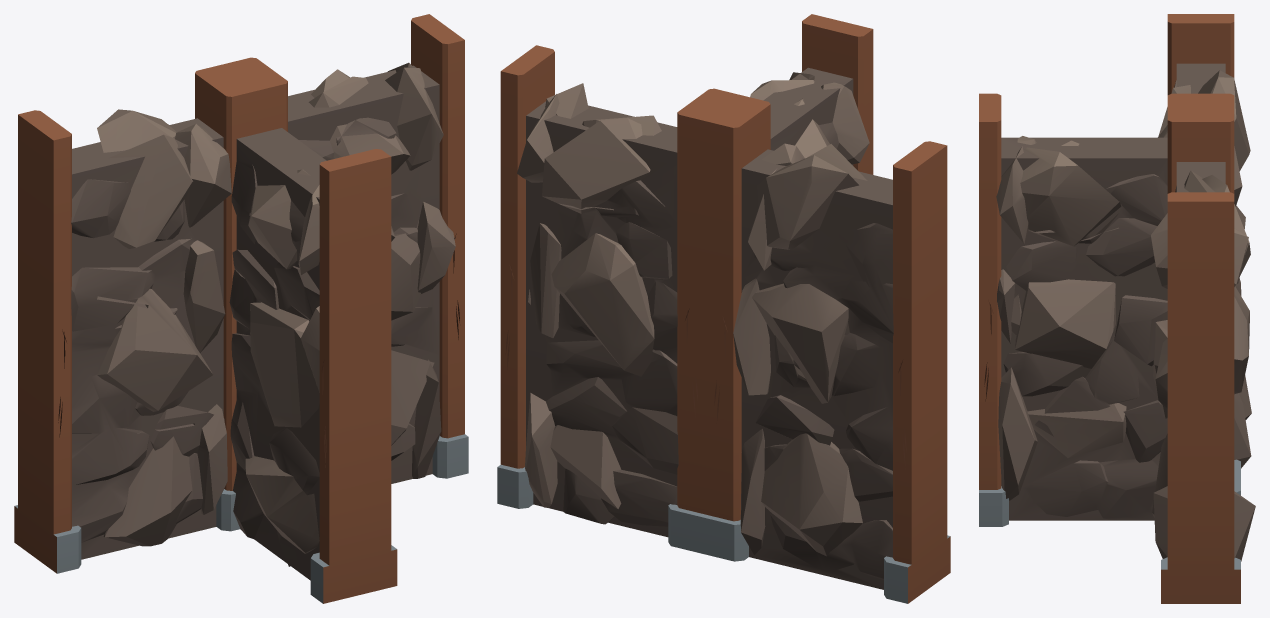
Rendered from wall_cave_Tsplit_A.glb.
3 views of the same model, side by side, from view 1: azimuth 30°, elevation 25°; view 2: azimuth 150°, elevation 25°; view 3: azimuth 270°, elevation 25° (orthographic). The views are drawn at different scales.
Visible parts, largest first — view 1: Item; view 2: Item; view 3: Item.
Part boxes in pixels (bbox=[...]): Item: bbox=[14, 14, 468, 603]; Item: bbox=[497, 14, 950, 603]; Item: bbox=[979, 14, 1255, 603].
Bounding box in the file's own units: 4 × 4 × 2.49.
Materials: 1 (1 with a texture image).
